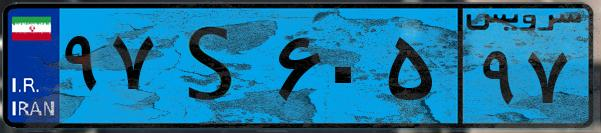0: (330, 28, 385, 110)
5: (385, 28, 445, 110)
6: (270, 28, 330, 110)
7: (525, 38, 570, 115), (110, 28, 158, 98)
9: (57, 26, 110, 100), (475, 38, 525, 113)
S: (158, 12, 270, 120)
